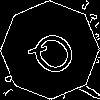Q: (25, 25, 87, 87)
